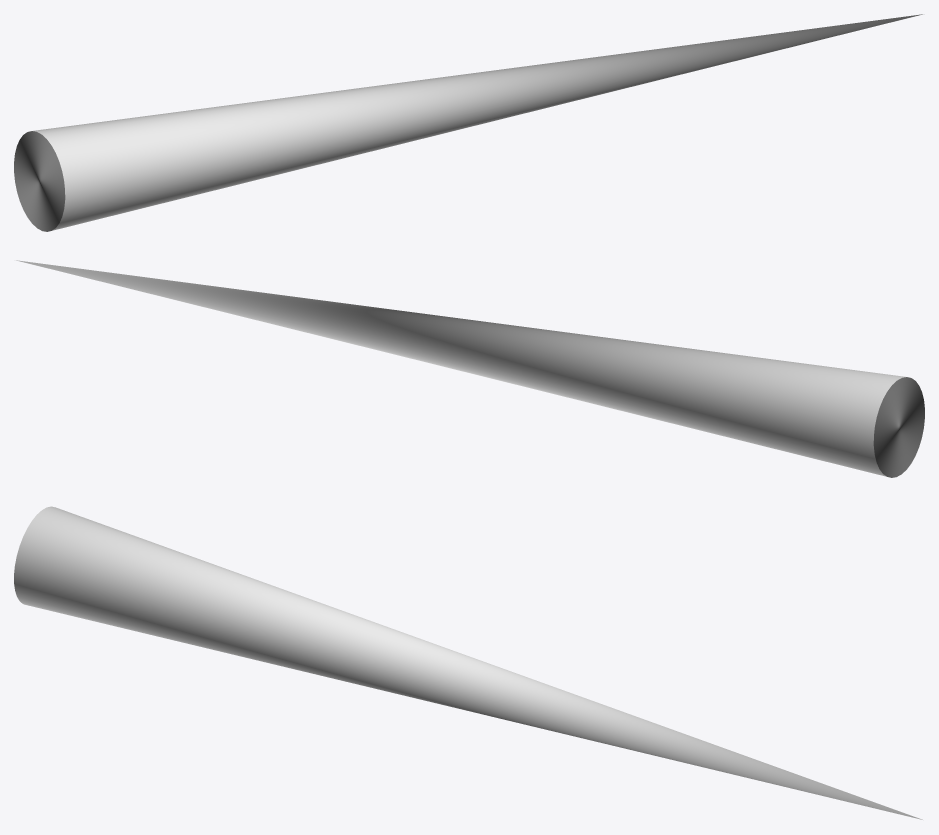
The model's file is spiretop.obj.
3 renders of one model, top to bottom at view 1: azimuth 30°, elevation 25°; view 2: azimuth 150°, elevation 25°; view 3: azimuth 330°, elevation 25°, orthographic.
Visible parts, largest first — view 1: Cone; view 2: Cone; view 3: Cone.
Part boxes in pixels (x1,y1,x2,y2): Cone: (14,14,922,231); Cone: (16,260,924,477); Cone: (14,506,922,819).
Size of the model in its own units: 60.07 by 6.14 by 6.
Materials: 1 (1 with a texture image).
